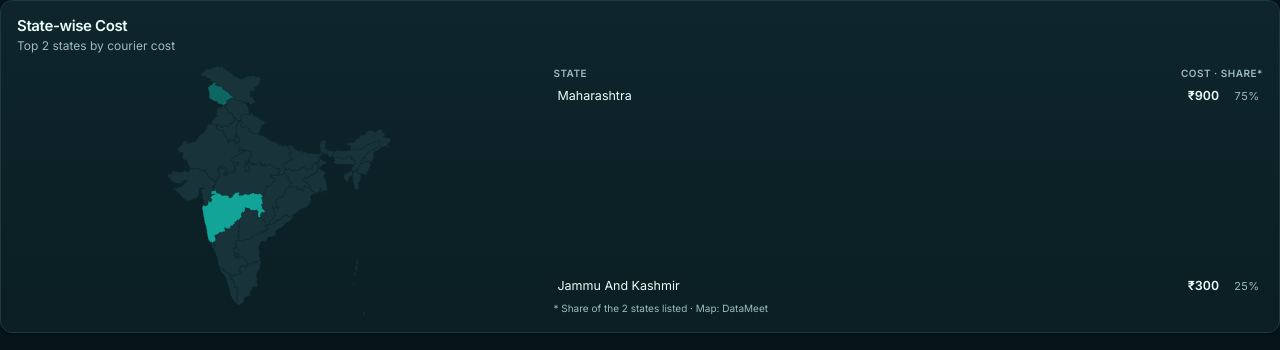
StateCostCard › shades only the listed states on the map and links hover between map and list
This screenshot has width=1280, height=350.
Step 1. Hover over the text "Maharashtra" → point(595, 96), box [557,88,632,103]
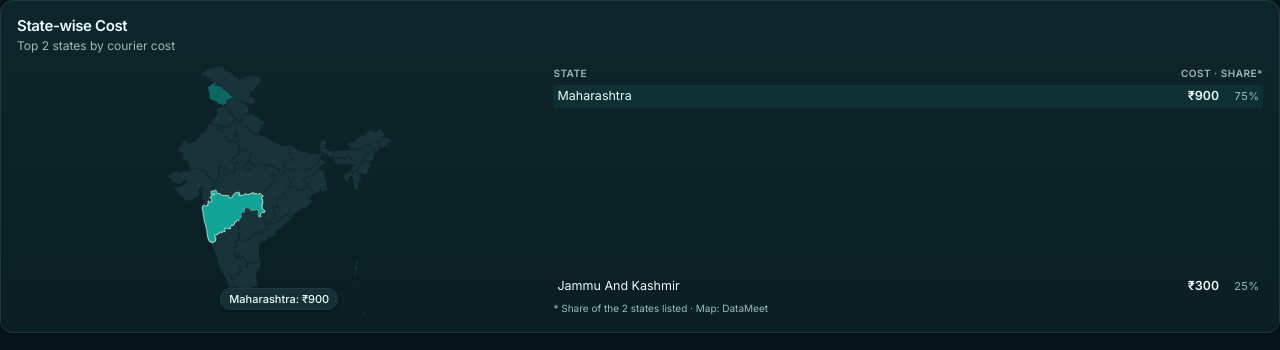
Expected: the text "Maharashtra: ₹900" is shown, [220,288,338,310]
